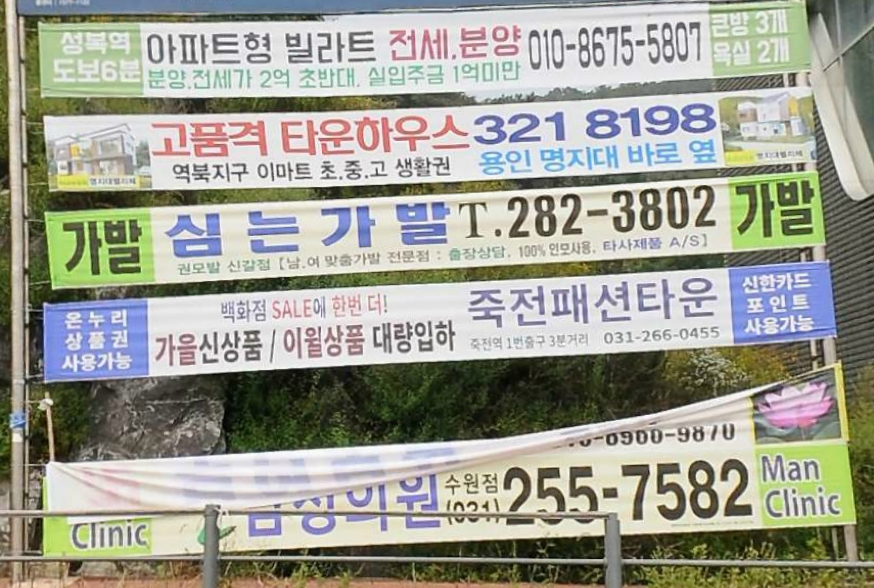banner: (18, 83, 820, 218), (36, 258, 838, 387), (31, 171, 827, 291), (41, 1, 821, 107)
